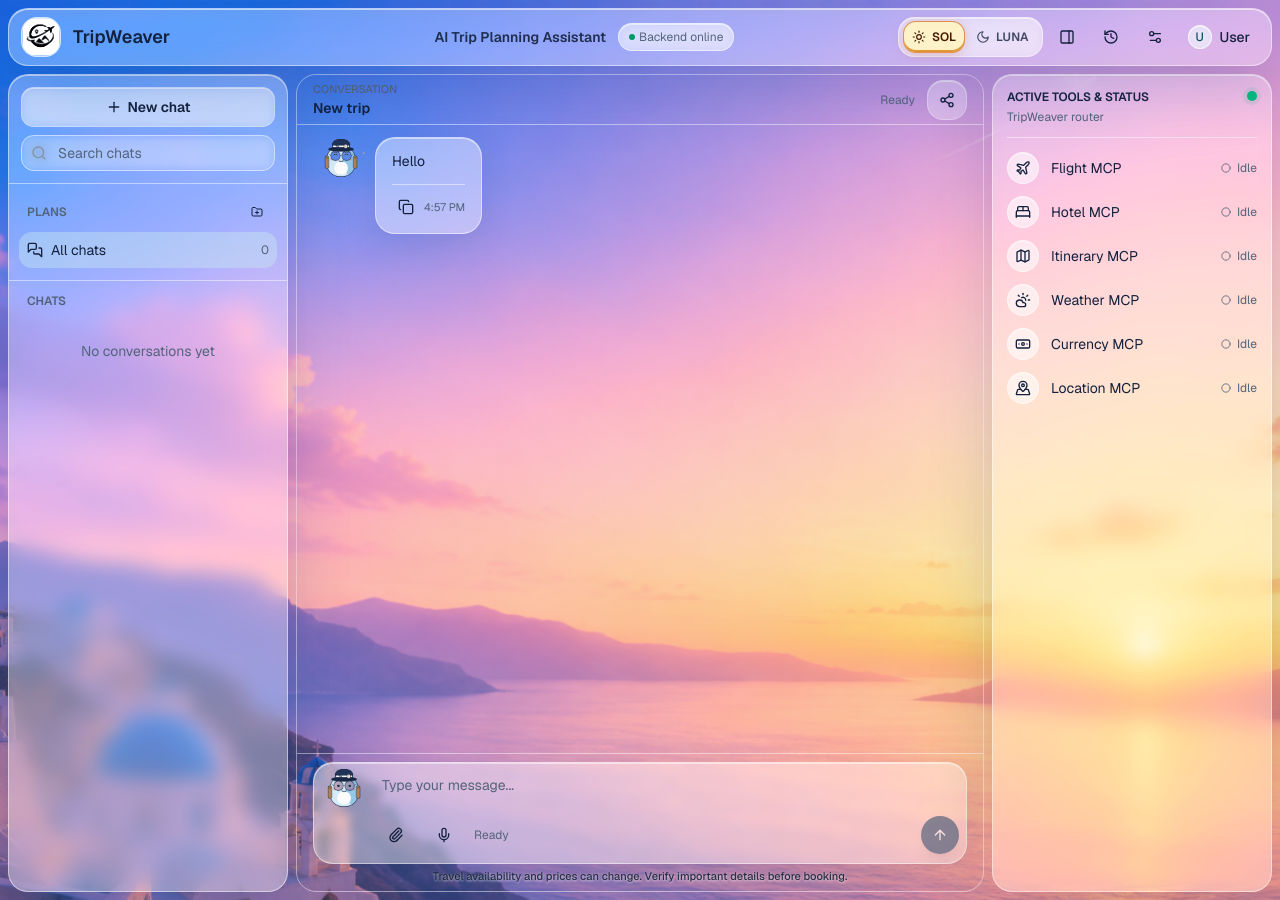
Test: TripWeaverApp › opens history and tools as modal drawers on compact screens
The image size is (1280, 900).
Click the button named "Toggle conversation history" at (1110,37), box [1090,17,1130,57]
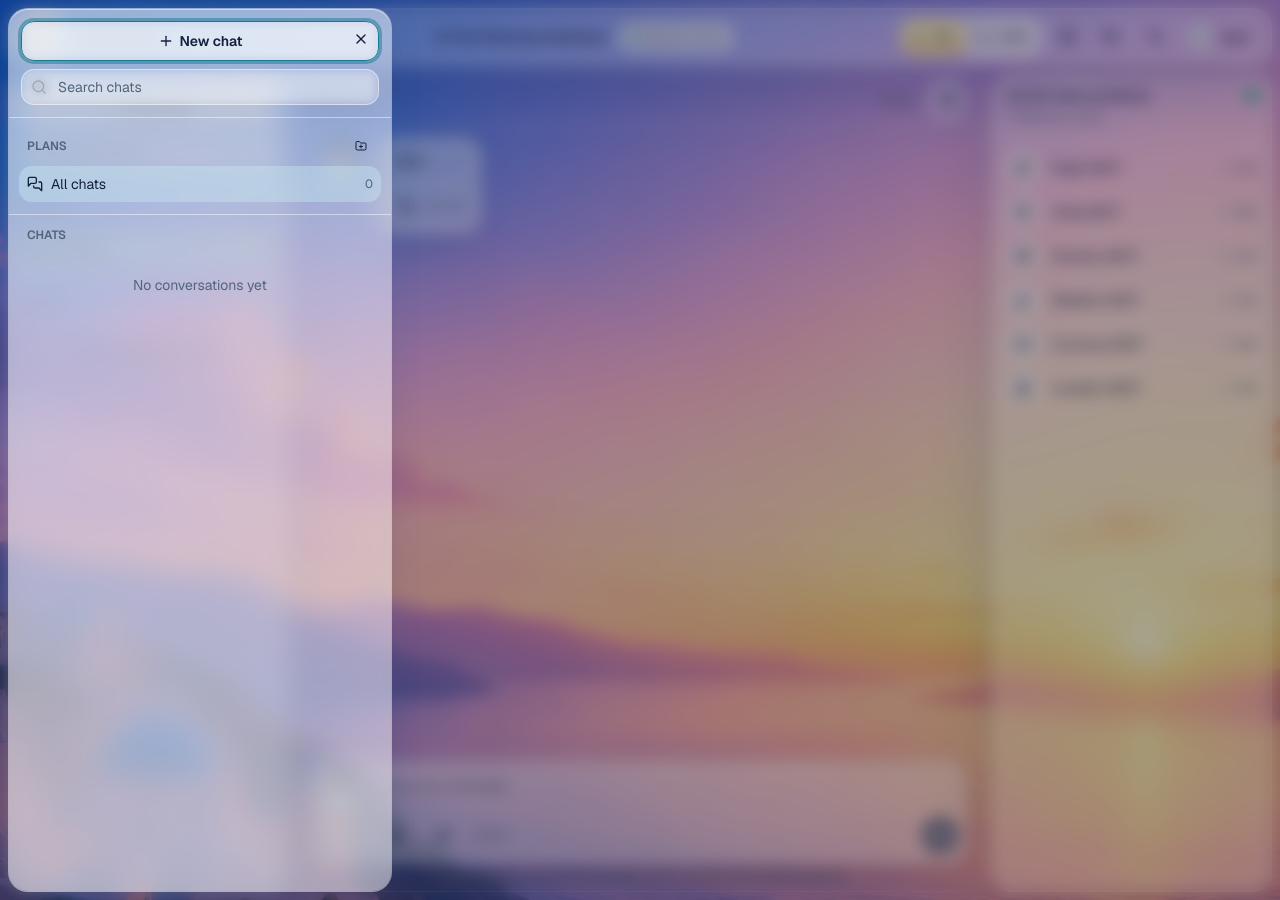
Check: the dialog named "Conversation history" is shown, box [8,8,392,892]
Press Escape
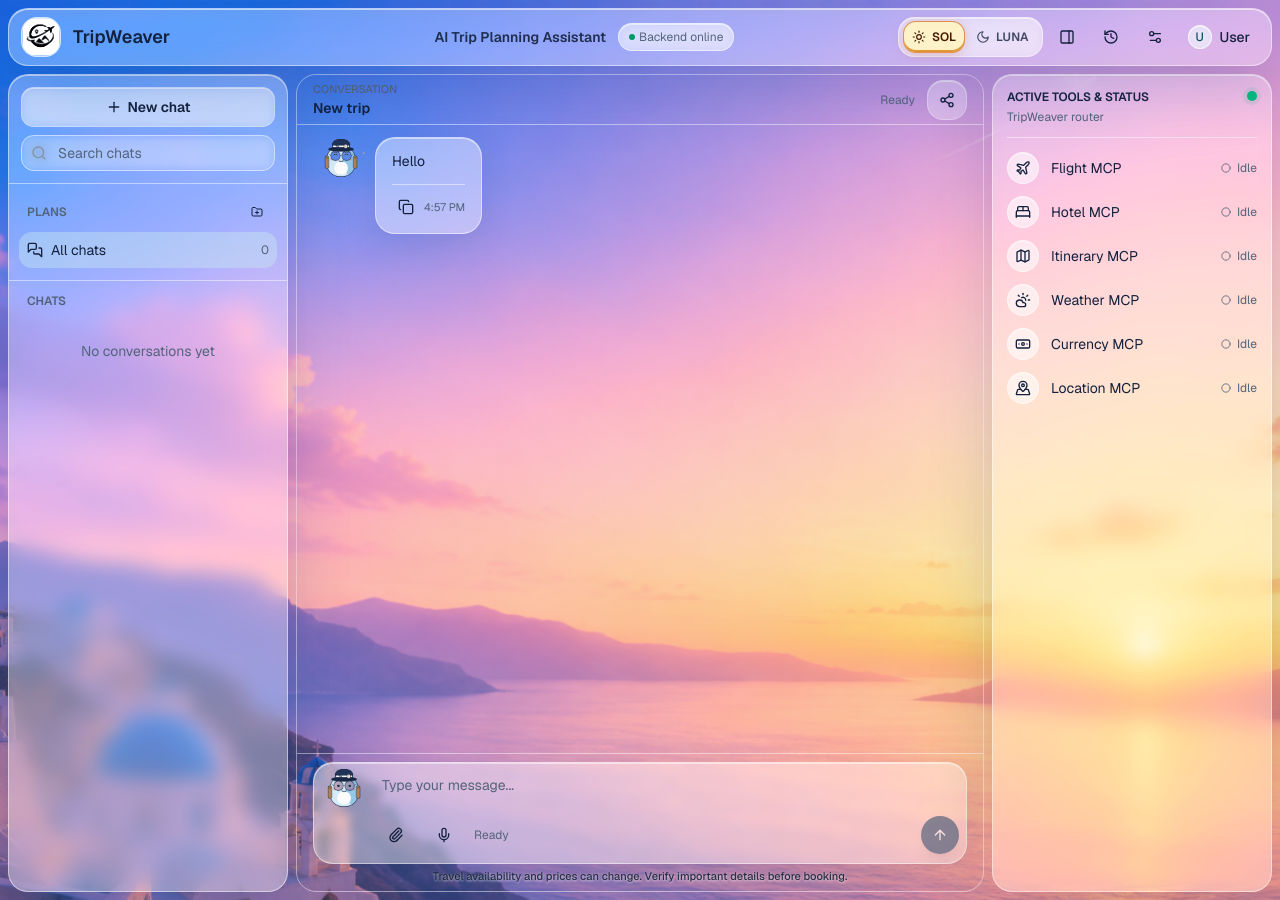
Click the button named "Toggle trip tools" at (1066,37), box [1046,17,1086,57]
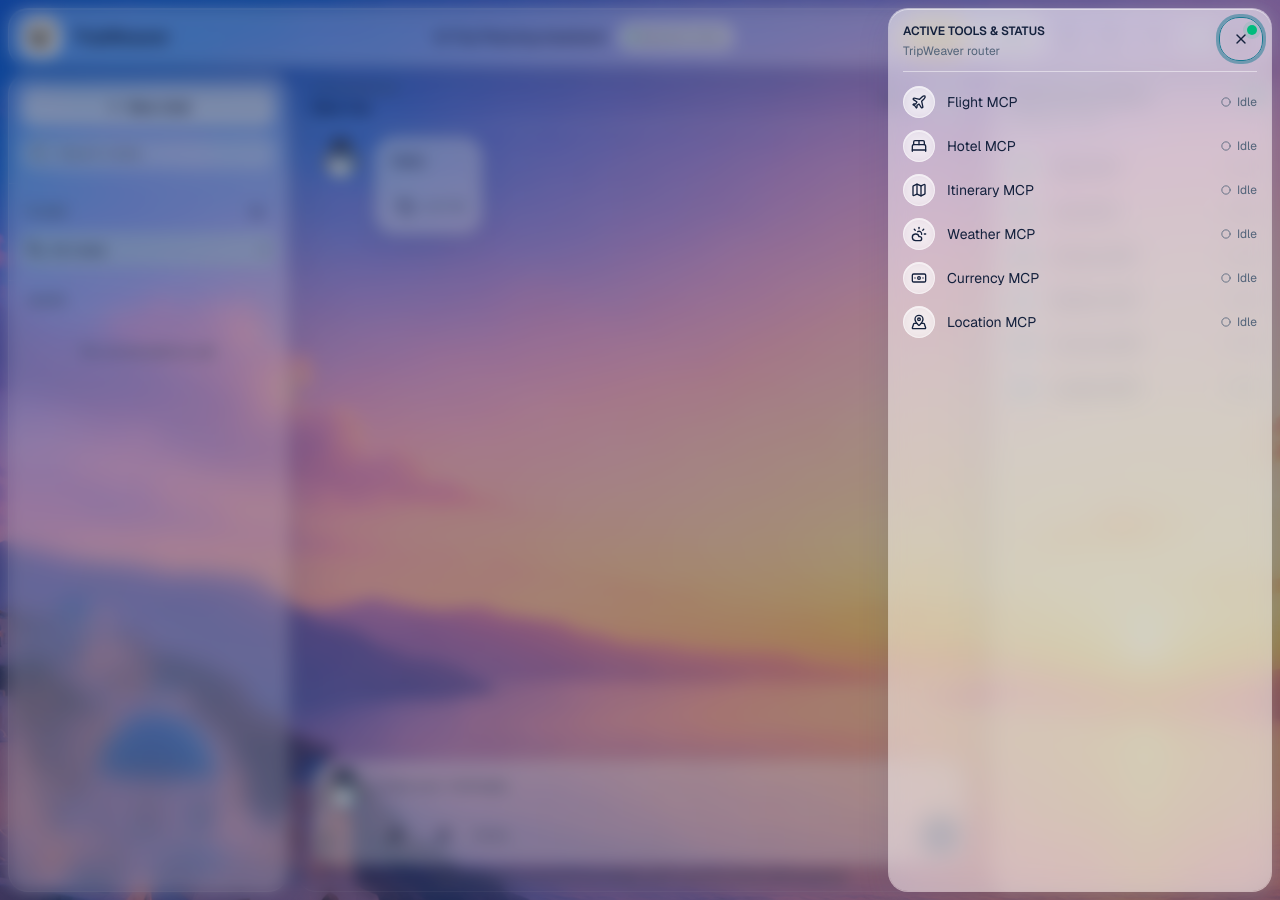
Check: the dialog named "Trip status" is shown, box [888,8,1272,892]
